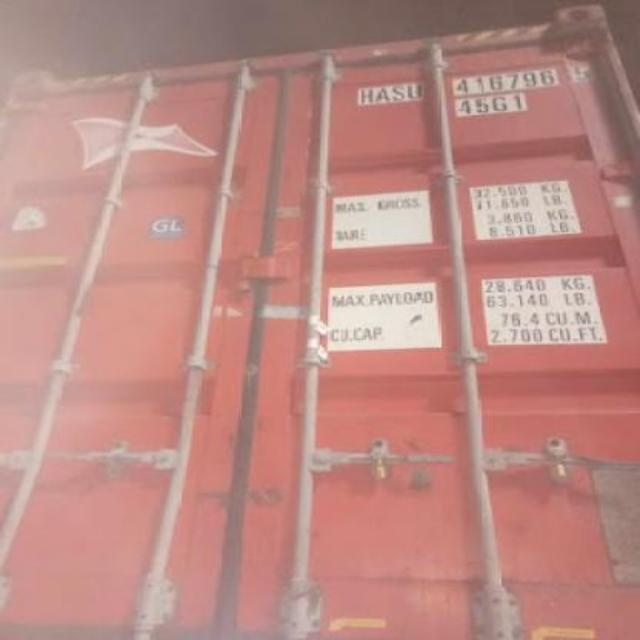1: (476, 75, 486, 93)
4: (458, 78, 468, 92)
5: (572, 63, 588, 81)
6: (540, 69, 558, 87), (488, 75, 504, 88)
7: (504, 72, 522, 88)
9: (522, 72, 538, 86)
A: (376, 86, 389, 104)
H: (358, 89, 374, 105)
S: (390, 86, 406, 102)
U: (408, 83, 420, 101)
